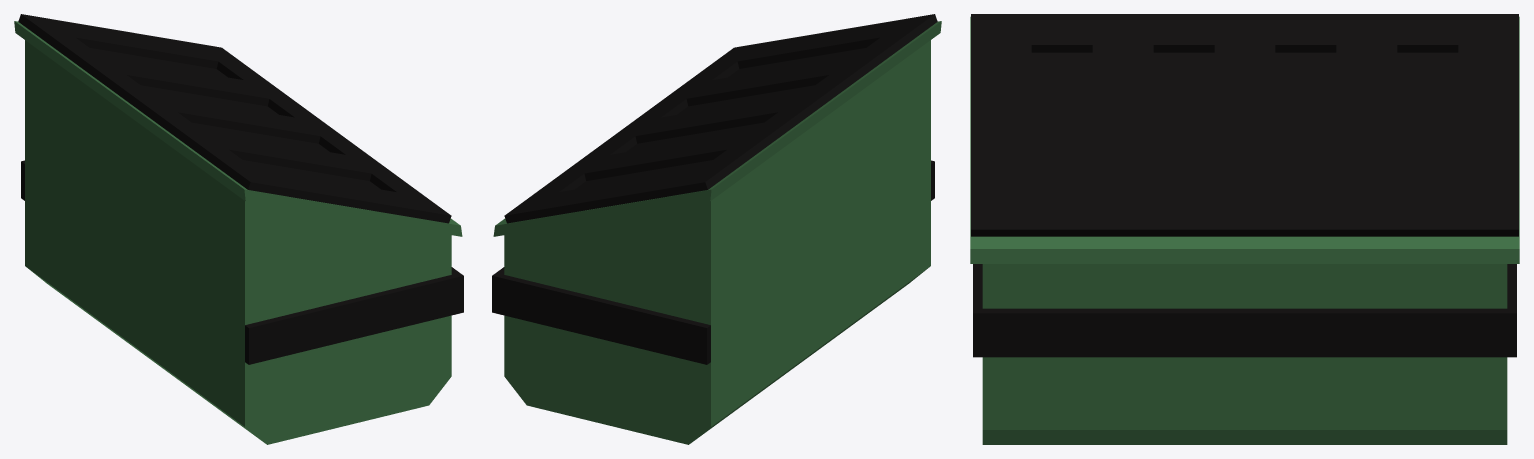
Rendered from mysorka.fbx.
3 renders of one model, left to right at view 1: azimuth 30°, elevation 25°; view 2: azimuth 150°, elevation 25°; view 3: azimuth 270°, elevation 25°, orthographic. The views are drawn at different scales.
Visible parts, largest first — view 1: garbage_container_lid; view 2: garbage_container_lid; view 3: garbage_container_lid.
Part boxes in pixels (<box>): garbage_container_lid: <box>14,14,463,444</box>; garbage_container_lid: <box>492,14,941,444</box>; garbage_container_lid: <box>970,14,1519,444</box>.
Bounding box in the file's own units: 107 × 126 × 193.
1 material, 1 textured.
